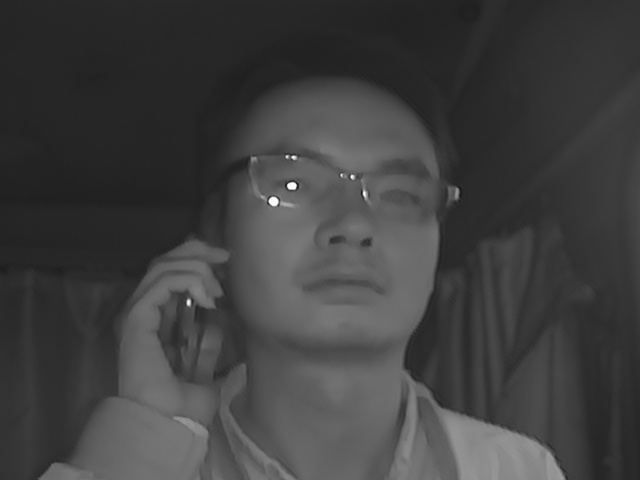hand: (105, 236, 237, 425)
